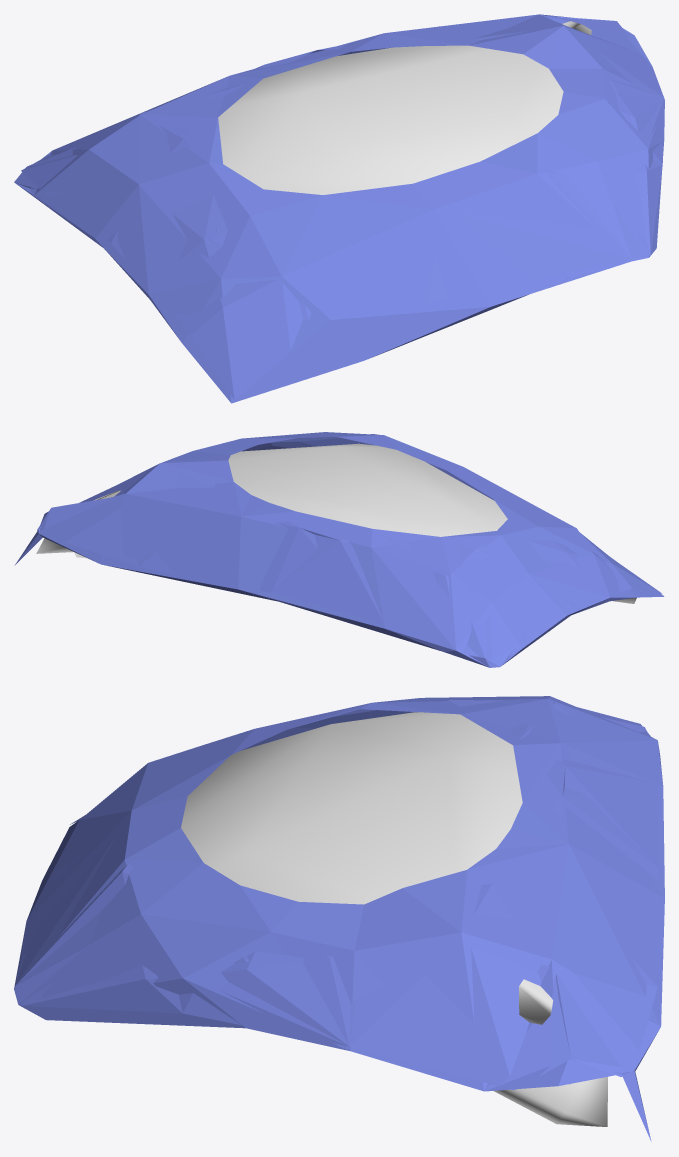
The model's file is incisao.fbx.
The picture shows the model from 3 angles, top to bottom: view 1: azimuth 30°, elevation 25°; view 2: azimuth 150°, elevation 25°; view 3: azimuth 270°, elevation 25°; orthographic projection. The views are drawn at different scales.
Visible parts, largest first — view 1: Epigastric region.l.001; view 2: Epigastric region.l.001; view 3: Epigastric region.l.001.
Boxes of the visible parts, box(x1,y1,x2,y2) form: Epigastric region.l.001: box(14, 14, 664, 403); Epigastric region.l.001: box(14, 432, 664, 667); Epigastric region.l.001: box(14, 696, 664, 1141).
Size of the model in its own units: 151 by 38.68 by 106.
